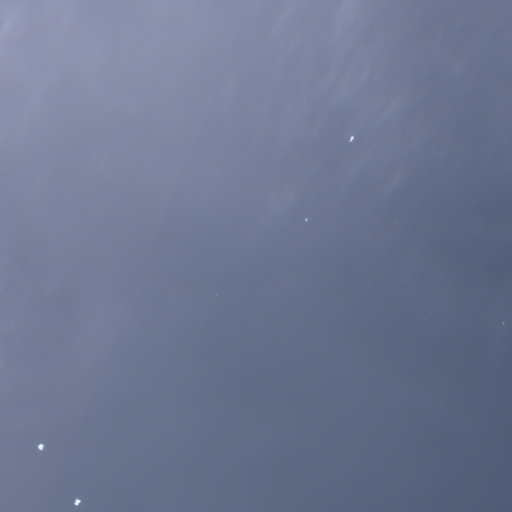Iceberg: (74, 498, 80, 505), (38, 443, 43, 450), (350, 136, 353, 141), (305, 218, 307, 220), (503, 322, 504, 324)
